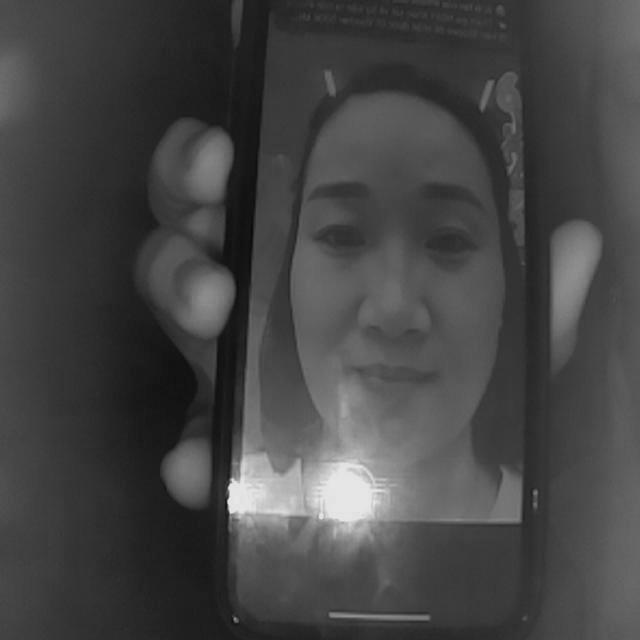fake: (209, 4, 555, 640)
